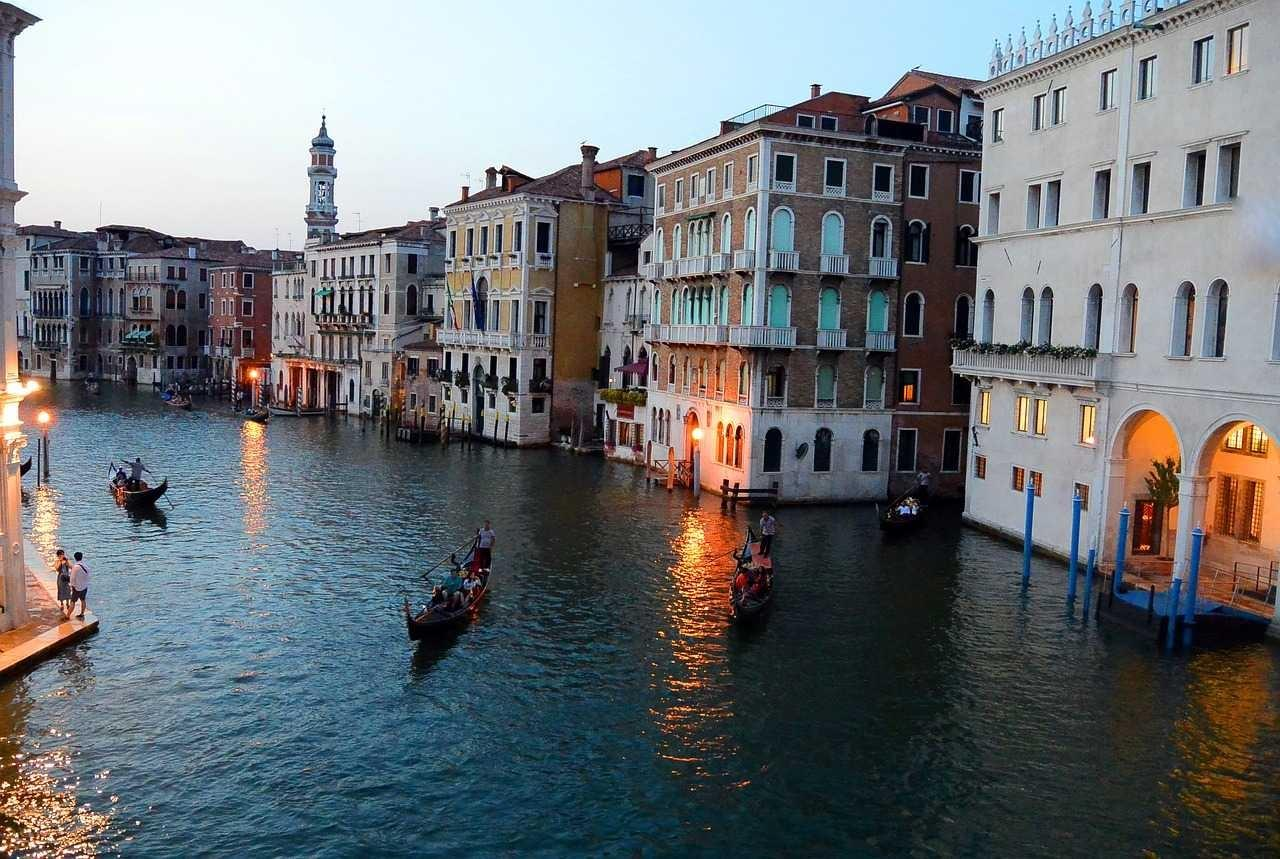kayak: (729, 534, 776, 629), (403, 587, 476, 646), (880, 474, 932, 534), (109, 478, 169, 507), (162, 388, 192, 409)
